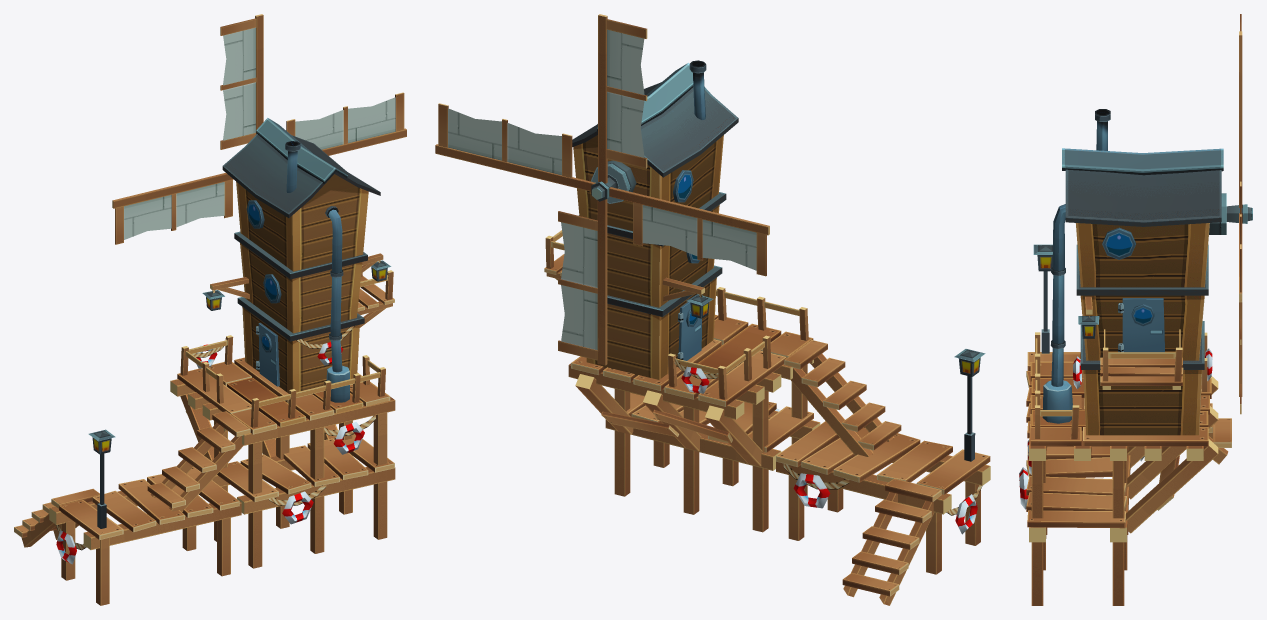
3 views of the same model, side by side, from view 1: azimuth 30°, elevation 25°; view 2: azimuth 150°, elevation 25°; view 3: azimuth 270°, elevation 25° (orthographic). The views are drawn at different scales.
Parts seen in each view (by area): view 1: windmill_house_boat_pack_01_d_0, windmill_rotor_boat_pack_01_d_0; view 2: windmill_house_boat_pack_01_d_0, windmill_rotor_boat_pack_01_d_0; view 3: windmill_house_boat_pack_01_d_0, windmill_rotor_boat_pack_01_d_0.
Boxes of the visible parts, <box> form: windmill_house_boat_pack_01_d_0: <box>14,118,395,605</box>; windmill_rotor_boat_pack_01_d_0: <box>112,14,406,244</box>; windmill_house_boat_pack_01_d_0: <box>544,60,990,605</box>; windmill_rotor_boat_pack_01_d_0: <box>435,14,769,365</box>; windmill_house_boat_pack_01_d_0: <box>1019,109,1231,605</box>; windmill_rotor_boat_pack_01_d_0: <box>1226,14,1252,414</box>.
Bounding box in the file's own units: 37.12 × 40.67 × 15.66.
1 material, 1 textured.
